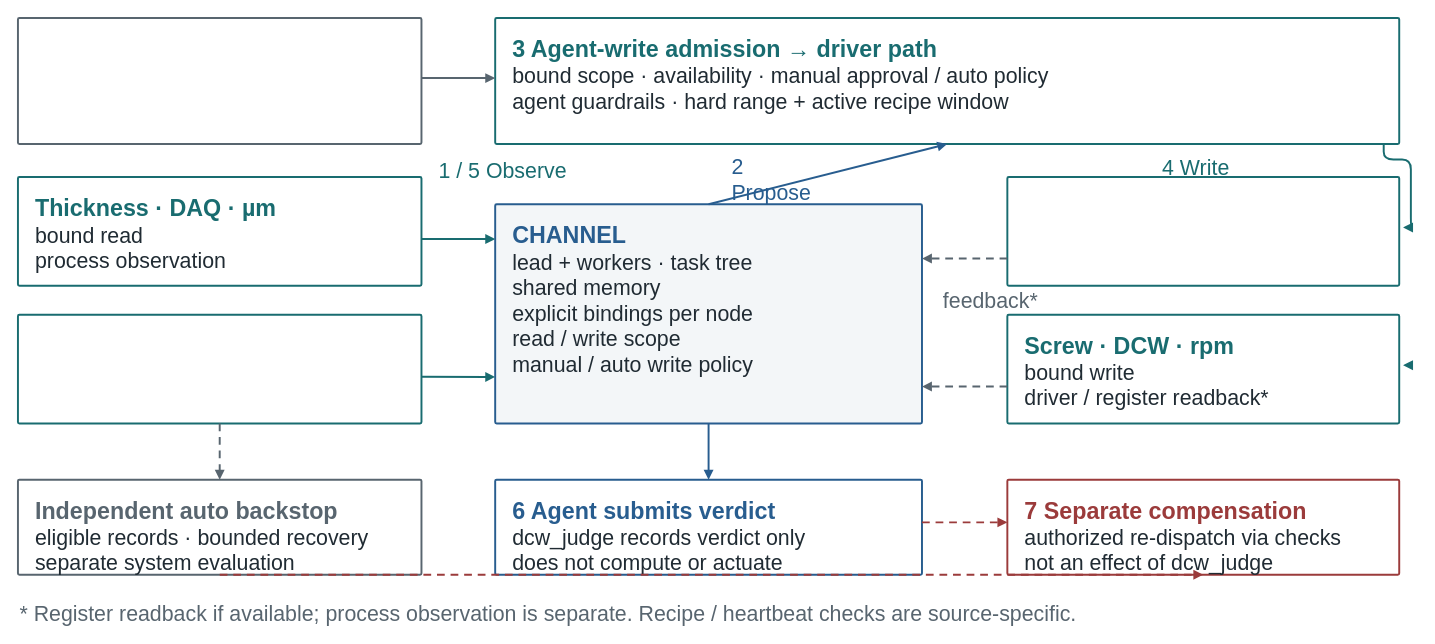
The diagram is 1435 pixels wide and 644 high, and some of its shapes have lost their labels. The centre of each missing label's shape, as x and y in pixels:
Heater · DCW · °C bound write driver / register readback*: (1203,231)
Independent human manual approval pause / intervene · escalation: (219,80)
Pressure · DAQ · MPa bound read process observation: (219,368)
